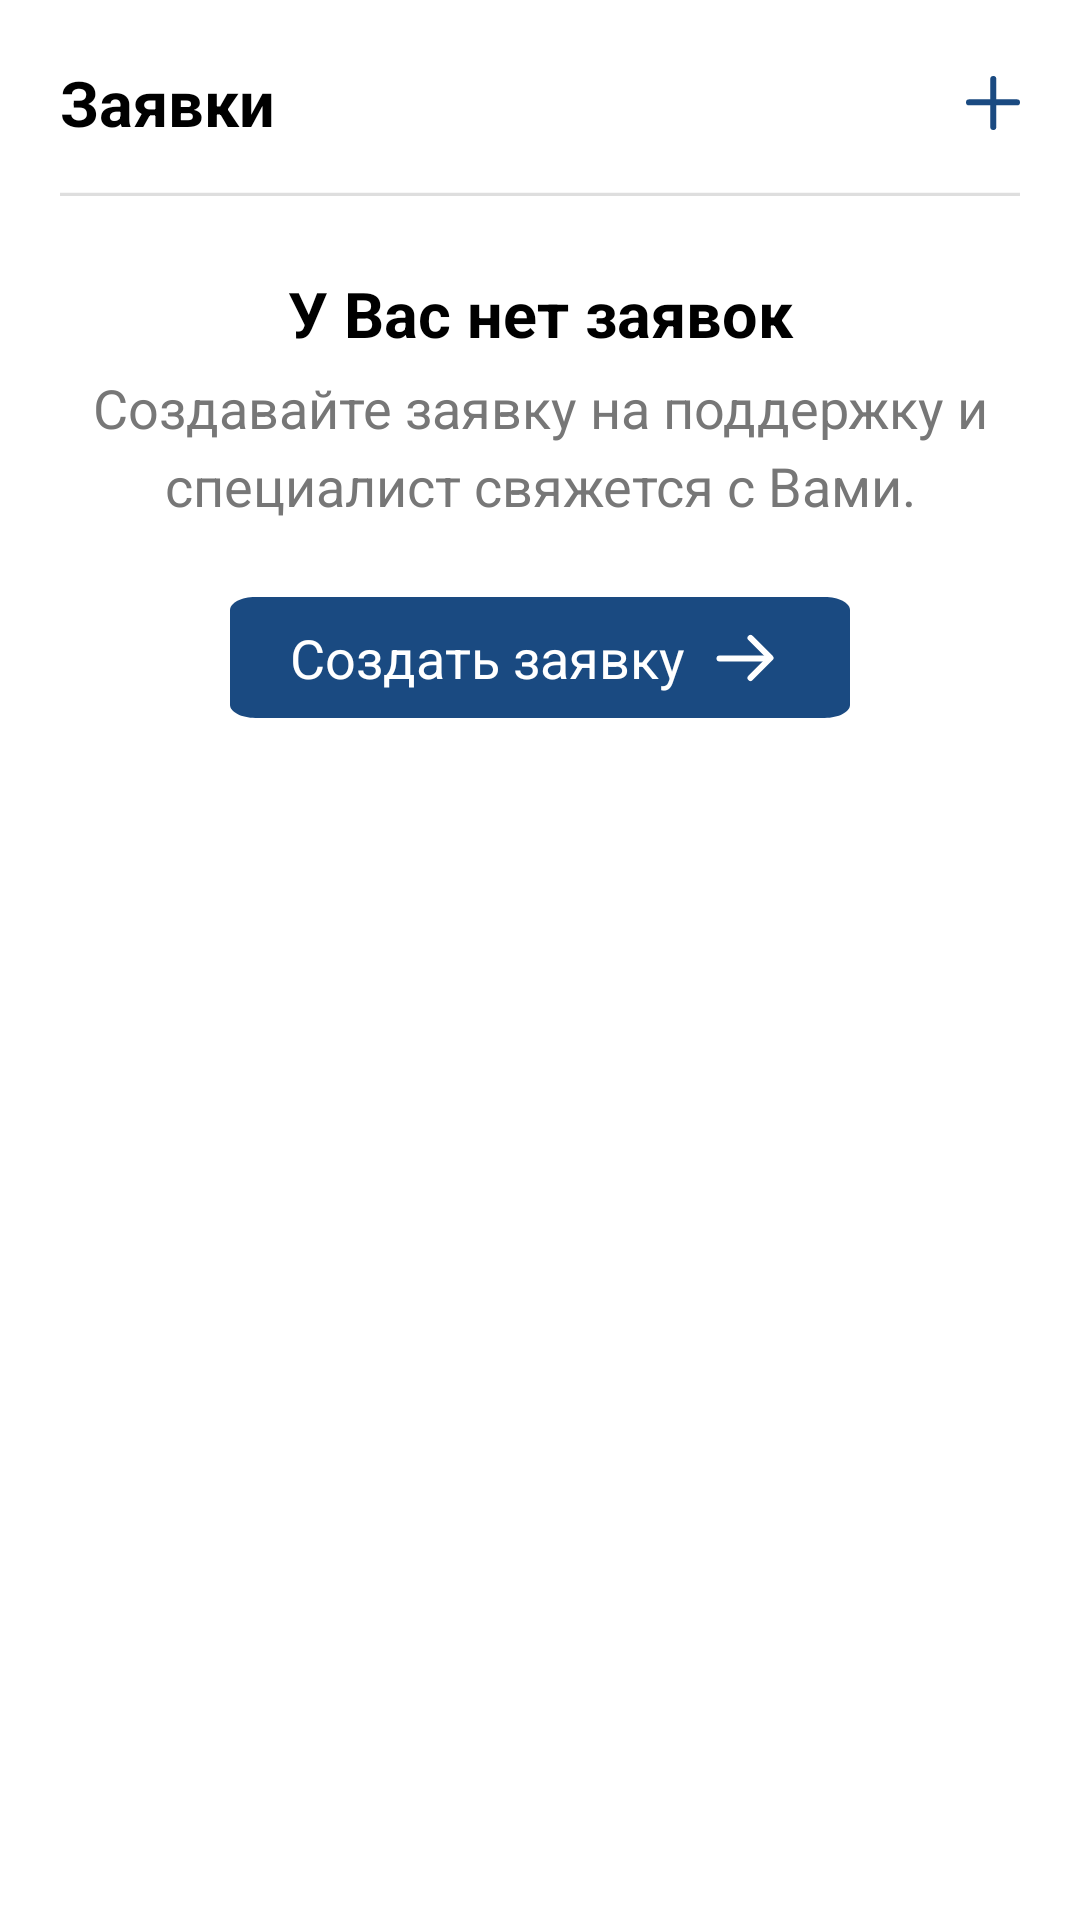

Icon click points for this 1080 × 1920 phone screenshot, format point (x, y):
plus: point (993, 103)
